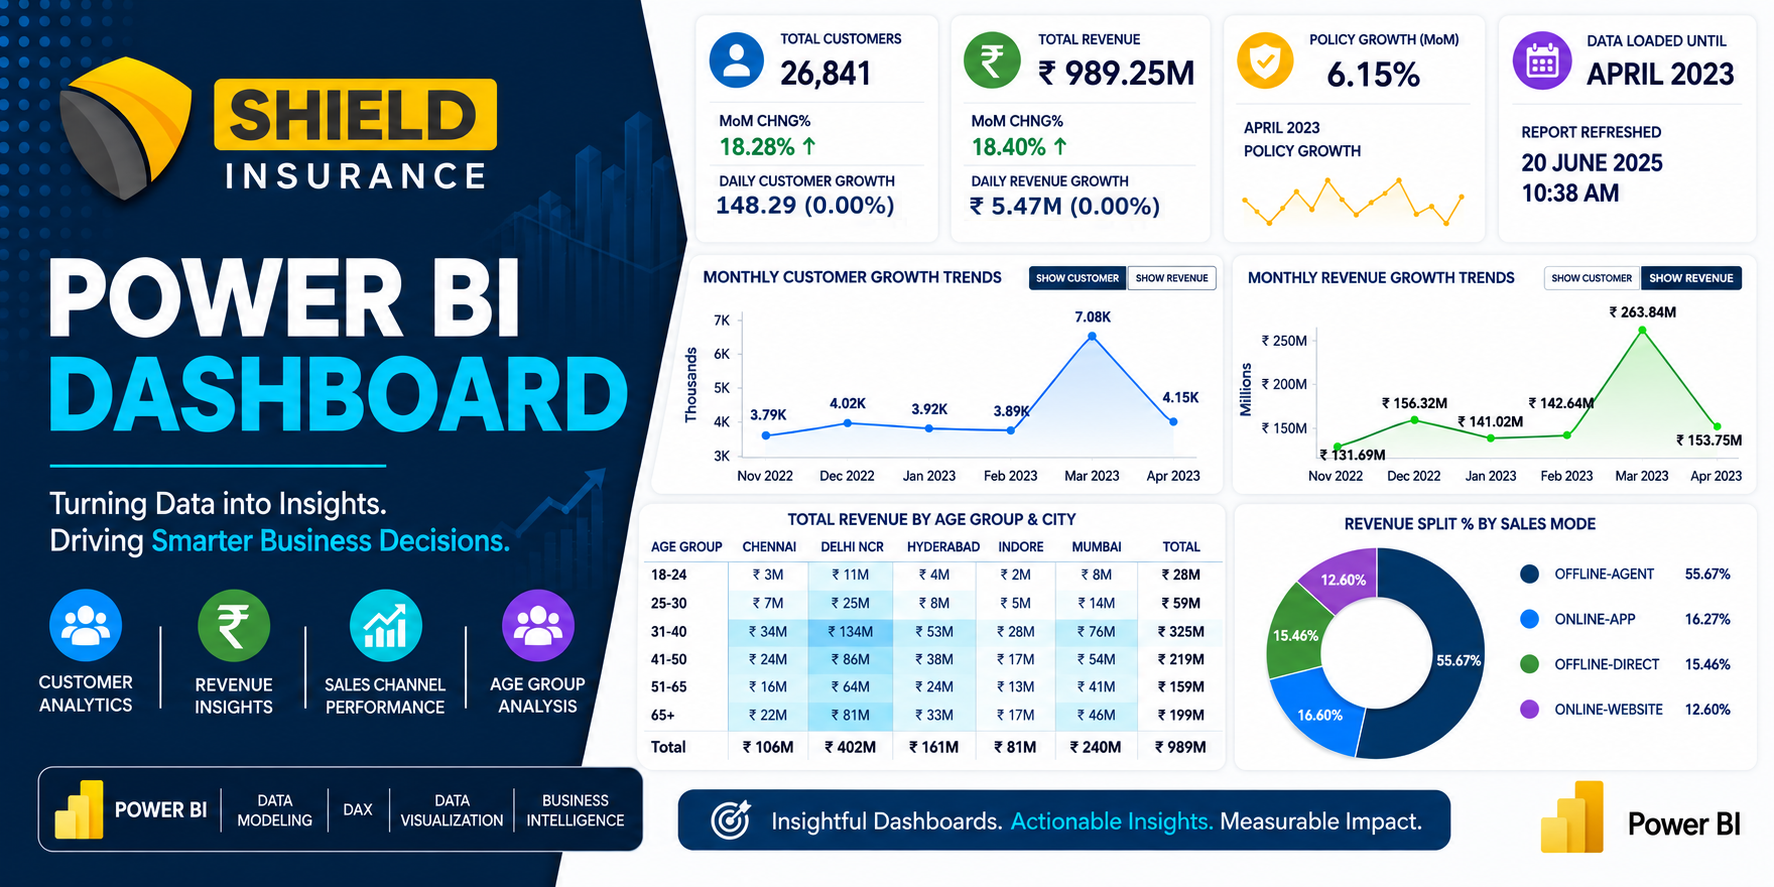

Layout of this report page (visuals, bound fields, positions):
{"tool":"powerbi","page":{"name":"HOME","canvas":[2300,1180],"ordinal":0},"visuals":[{"type":"shape","box":[1606.6,506,310.4,487.8],"z":0},{"type":"shape","box":[1199.4,506,310.4,487.8],"z":1000},{"type":"shape","box":[865.3,324.3,569.4,106.8],"z":2000},{"type":"group","id":"g1","title":"Group 2","box":[792.2,506,310.4,487.8],"z":3000},{"type":"shape","box":[385,506,310.4,487.8],"z":4000},{"type":"image","box":[470.5,525.9,136.4,124.6],"z":5000},{"type":"shape","box":[2.1,1109.5,2298.3,20.9],"z":6000},{"type":"textbox","box":[383,661.2,310.4,54.4],"z":7000},{"type":"image","box":[979,0,342.1,324.3],"z":8000},{"type":"card","fields":{"Values":["MEASURES (2).Data Loaded Until"]},"box":[1893,1122,407.4,58.5],"z":9000},{"type":"card","fields":{"Values":["MEASURES (2).REPORT REFRESHED DATE"]},"box":[0,1122.8,691.4,54.4],"z":10000},{"type":"textbox","box":[801.8,730.4,290.7,233.3],"z":11000},{"type":"textbox","box":[1211.1,730.4,286.7,233.3],"z":12000},{"type":"textbox","box":[1622.3,730.4,282.7,233.3],"z":13000},{"type":"textbox","title":"htrhrt","box":[1199.4,661.2,310.4,54.4],"z":14000},{"type":"textbox","box":[1606.6,663.2,310.4,52.4],"z":15000},{"type":"textbox","box":[394.5,730.4,288.7,264.9],"z":16000},{"type":"image","box":[850.2,525.9,199.7,124.6],"z":17000},{"type":"image","box":[1654.9,516.1,213.5,134.5],"z":18000},{"type":"image","box":[1263.9,526.1,171.3,125],"z":19000},{"type":"shape","title":"The Customer & Revenue Overview dashboard offers a clear summary of overall revenue and customer trends. It emphasizes key business indicators, providing actionable insights into performance and ident","box":[792.2,506,310.4,487.8],"z":21000,"group":"g1"},{"type":"textbox","box":[796.2,659,306.4,50.7],"z":22000,"group":"g1"}]}

Visuals, with their boxes in screenshot pixels (x1, y1, x2, y2), scaled from the page's 2300x1180 canvas onto the 1774x887 screenshot:
shape: left=1239, top=380, right=1479, bottom=747
shape: left=925, top=380, right=1165, bottom=747
shape: left=667, top=244, right=1107, bottom=324
"Group 2" group: left=611, top=380, right=850, bottom=747
shape: left=297, top=380, right=536, bottom=747
image: left=363, top=395, right=468, bottom=489
shape: left=2, top=834, right=1773, bottom=850
textbox: left=295, top=497, right=535, bottom=538
image: left=755, top=0, right=1019, bottom=244
card - MEASURES (2).Data Loaded Until: left=1460, top=843, right=1773, bottom=886
card - MEASURES (2).REPORT REFRESHED DATE: left=0, top=844, right=533, bottom=885
textbox: left=618, top=549, right=843, bottom=724
textbox: left=934, top=549, right=1155, bottom=724
textbox: left=1251, top=549, right=1469, bottom=724
"htrhrt" textbox: left=925, top=497, right=1165, bottom=538
textbox: left=1239, top=499, right=1479, bottom=538
textbox: left=304, top=549, right=527, bottom=748
image: left=656, top=395, right=810, bottom=489
image: left=1276, top=388, right=1441, bottom=489
image: left=975, top=395, right=1107, bottom=489
"The Customer & Revenue Overview dashboard offers a clear summary of overall revenue and customer trends. It emphasizes key business indicators, providing actionable insights into performance and ident" shape: left=611, top=380, right=850, bottom=747
textbox: left=614, top=495, right=850, bottom=533
